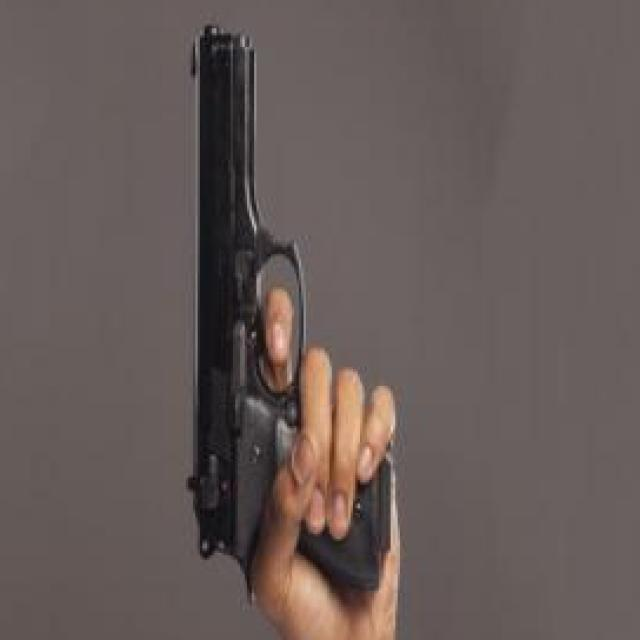pistol: (189, 23, 400, 573)
